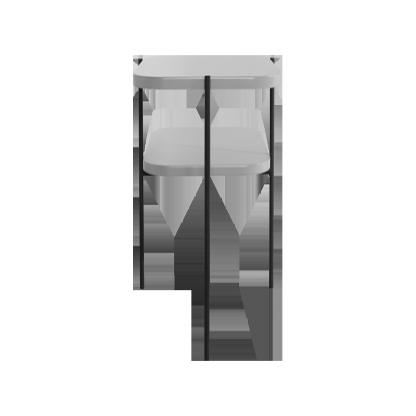table: (133, 51, 280, 357)
